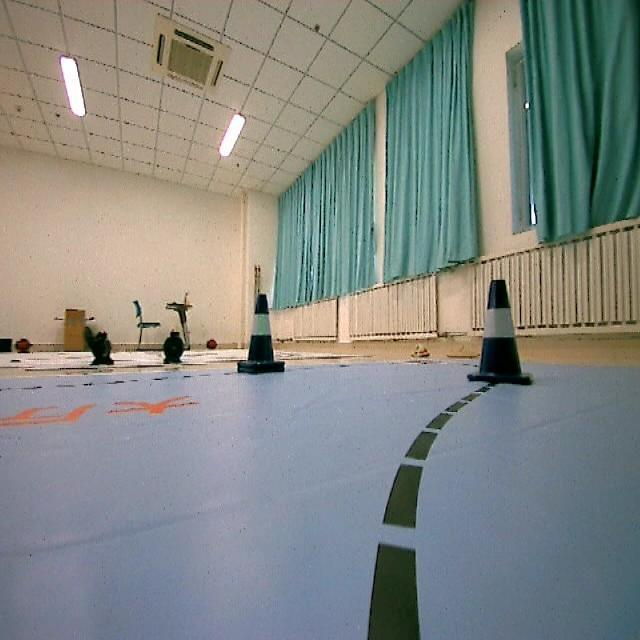obstacle: (455, 272, 539, 390), (241, 296, 287, 376)
